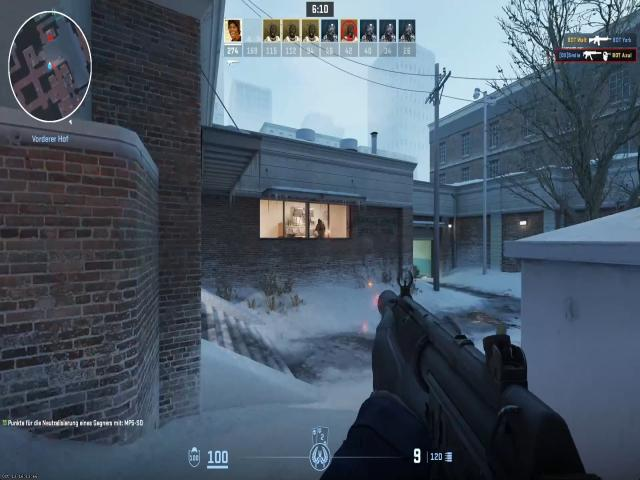CT: (315, 218, 326, 235)
CT-Head: (316, 219, 325, 228)
